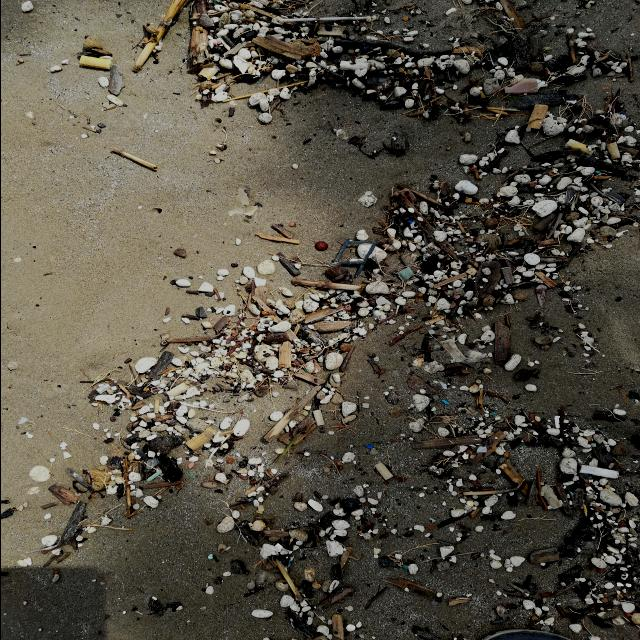Cigarette: (563, 139, 595, 157), (278, 16, 366, 22), (527, 104, 548, 129), (78, 55, 111, 69), (339, 60, 369, 70), (606, 142, 619, 158)
Other plastic bottle: (579, 465, 619, 479), (504, 78, 537, 94), (395, 268, 414, 281), (145, 470, 160, 482), (187, 461, 193, 469), (593, 170, 601, 175), (452, 295, 460, 299), (405, 219, 411, 224), (366, 444, 372, 449), (441, 400, 448, 404)
Unlabeled litter: (332, 239, 375, 279)
